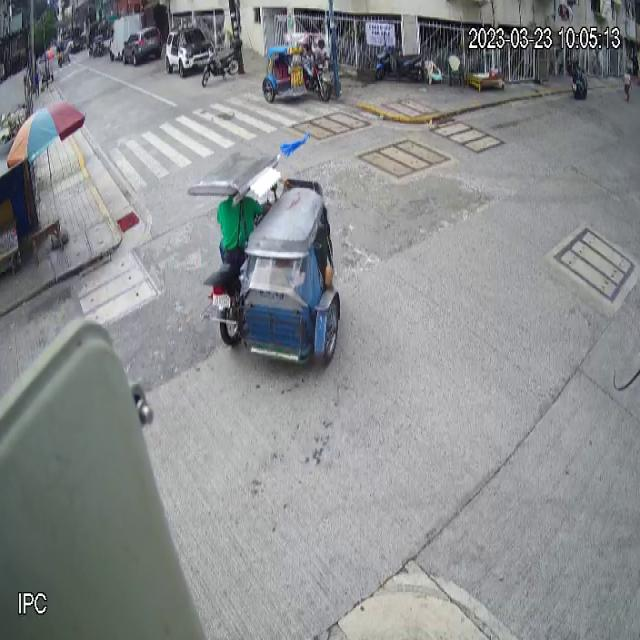Tricycle: (186, 152, 342, 369)
